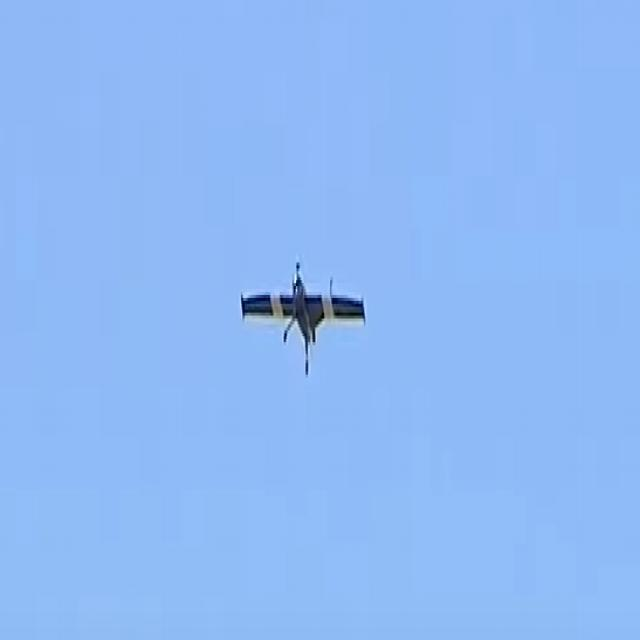UAV: (229, 266, 421, 386)
